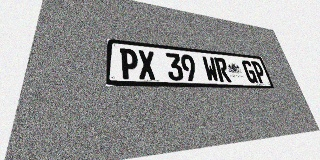3: (165, 53, 184, 81)
9: (180, 54, 198, 81)
G: (241, 60, 258, 83)
P: (120, 48, 139, 79), (251, 61, 268, 83)
R: (214, 57, 232, 82)
W: (202, 56, 220, 82)
X: (138, 50, 156, 80)
